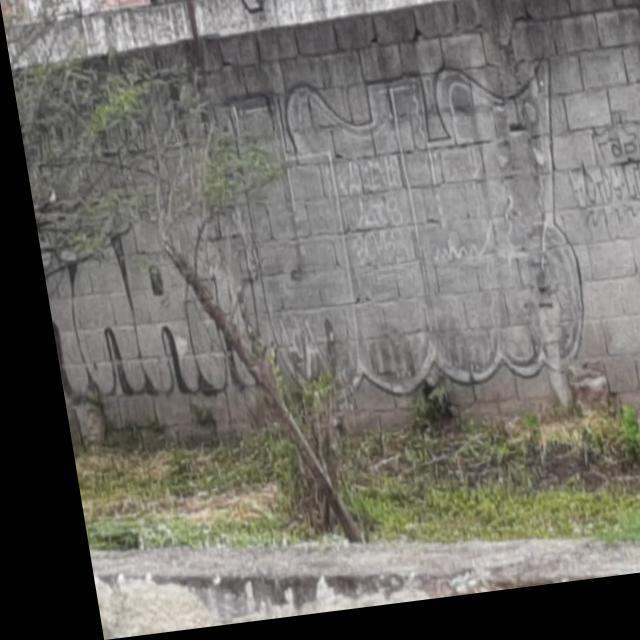-: (217, 59, 588, 417), (27, 189, 257, 414), (568, 120, 640, 247)
